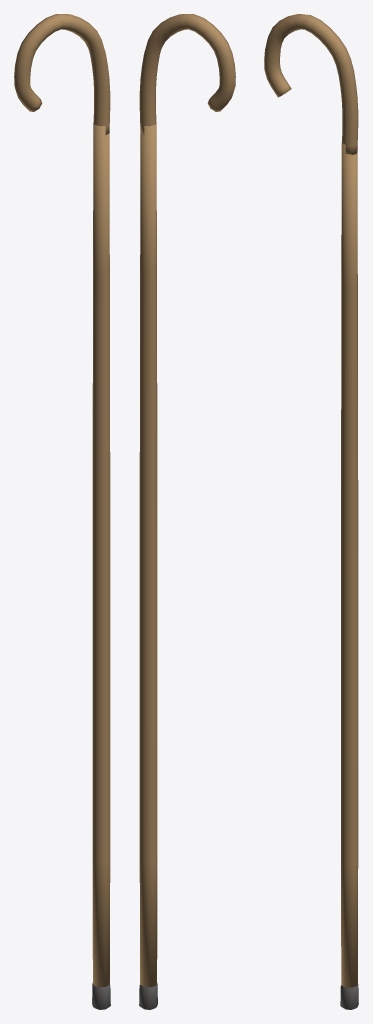
Rendered from crook.glb.
The picture shows the model from 3 angles, left to right: view 1: azimuth 30°, elevation 25°; view 2: azimuth 150°, elevation 25°; view 3: azimuth 330°, elevation 25°; orthographic projection. The views are drawn at different scales.
Visible parts, largest first — view 1: crook; view 2: crook; view 3: crook.
Part boxes in pixels (bbox=[...]): crook: bbox=[14, 14, 110, 1009]; crook: bbox=[139, 14, 235, 1009]; crook: bbox=[264, 14, 358, 1009].
Size of the model in its own units: 0.445 by 4.5 by 0.0792.
